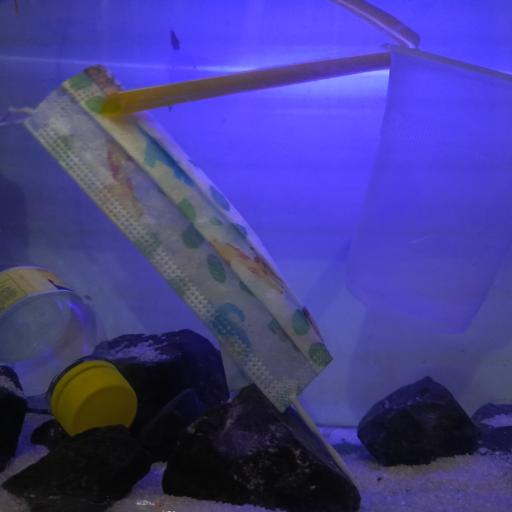bottle_cap: (60, 366, 137, 436)
mask: (0, 64, 334, 422)
plastic_bottle: (0, 234, 138, 436)
plastic_cup: (344, 43, 512, 338)
plastic_straw: (100, 50, 390, 118)
